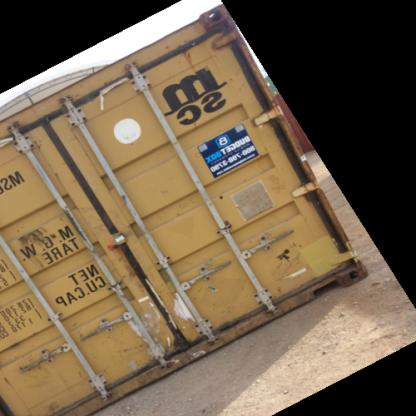Damage: (124, 270, 197, 358), (263, 230, 316, 281), (172, 29, 234, 70), (16, 224, 58, 271), (15, 112, 70, 145), (208, 276, 243, 326), (15, 350, 63, 385)
